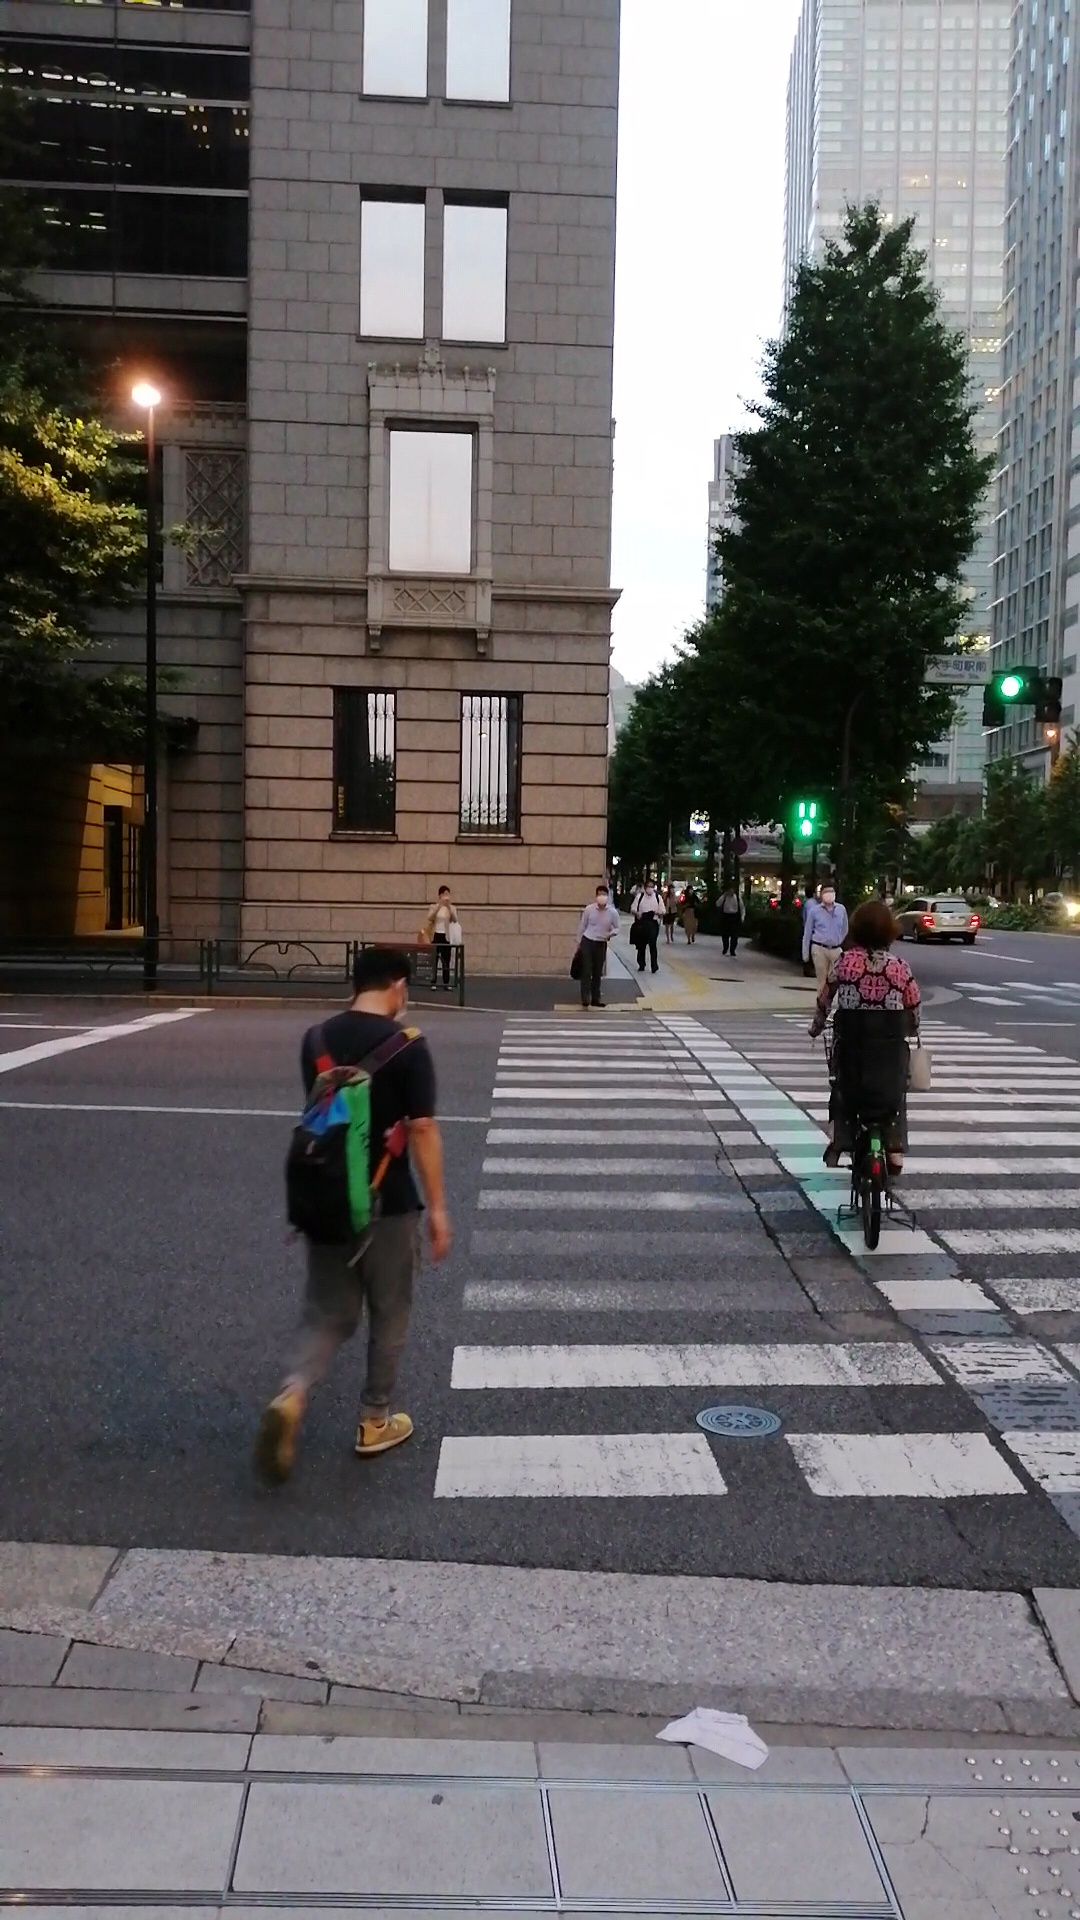green: (790, 794, 820, 843)
